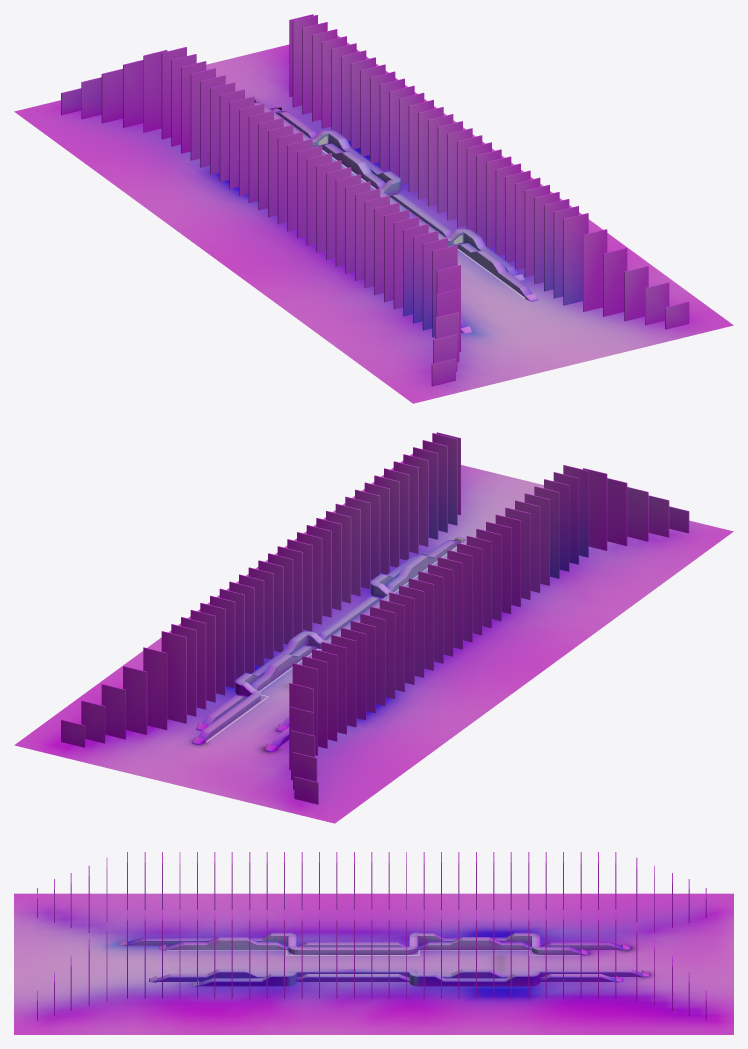
Rendered from operations_factory.glb.
3 views of the same model, one above another, from view 1: azimuth 30°, elevation 25°; view 2: azimuth 150°, elevation 25°; view 3: azimuth 270°, elevation 25° (orthographic). The views are drawn at different scales.
Parts seen in each view (by area): view 1: sol; view 2: sol; view 3: sol, emissive.
Part boxes in pixels (left/top/right/bottom): sol: left=14, top=14, right=733, bottom=403; sol: left=14, top=432, right=733, bottom=823; sol: left=14, top=852, right=733, bottom=1034; emissive: left=166, top=950, right=641, bottom=973.
Size of the model in its own units: 37.37 by 10.88 by 80.53.
